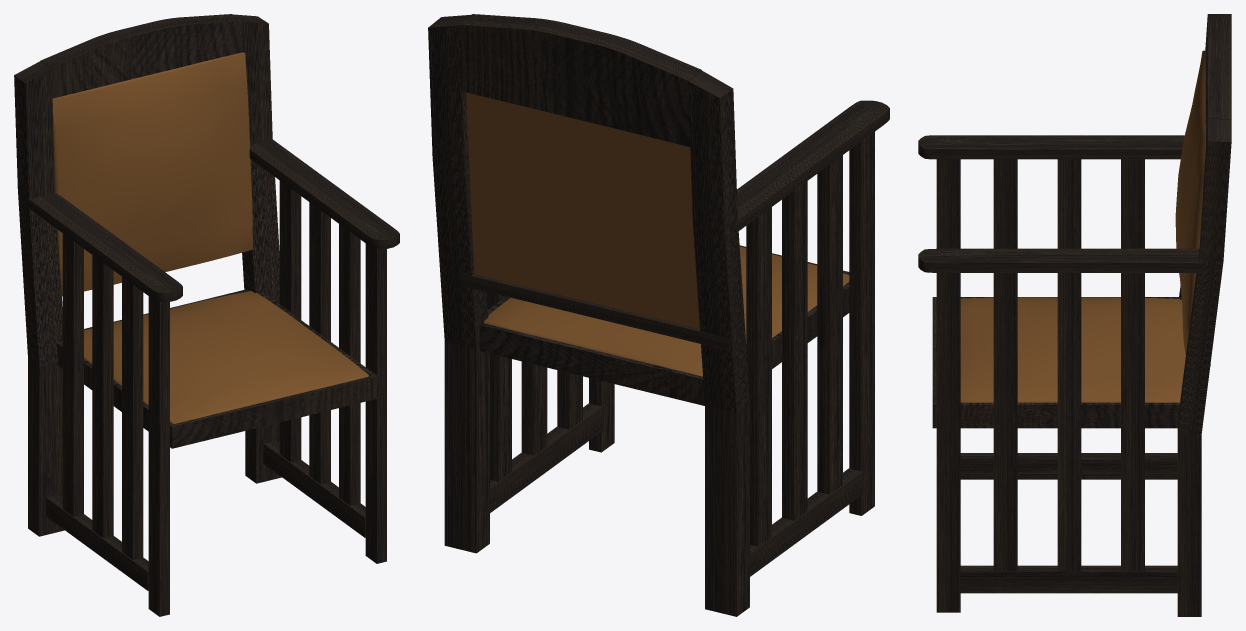
The model's file is kursi ruang tengah.fbx.
The picture shows the model from 3 angles, left to right: view 1: azimuth 30°, elevation 25°; view 2: azimuth 150°, elevation 25°; view 3: azimuth 270°, elevation 25°; orthographic projection. The views are drawn at different scales.
Visible parts, largest first — view 1: Cube.018, Cube.005, Cube.001, Cube.016, Cube, Cube.002, Cube.010, Cube.012, Cube.015, Cube.011, Cube.007, Cube.003 (+4 smaller); view 2: Cube.005, Cube.018, Cube.016, Cube.001, Cube.012, Cube.015, Cube.010, Cube, Cube.011, Cube.017, Cube.004, Cube.014 (+4 smaller); view 3: Cube.001, Cube.005, Cube.002, Cube.003, Cube.006, Cube.008, Cube.007, Cube.011, Cube.004, Cube, Cube.018, Cube.014 (+4 smaller).
Part boxes in pixels (x1,y1,x2,y2): Cube.018: [52, 52, 252, 295]; Cube.005: [14, 14, 281, 536]; Cube.001: [62, 291, 368, 423]; Cube.016: [148, 296, 169, 616]; Cube: [56, 289, 378, 448]; Cube.002: [365, 243, 386, 563]; Cube.010: [62, 233, 83, 516]; Cube.012: [92, 255, 113, 538]; Cube.015: [122, 277, 143, 559]; Cube.011: [27, 193, 182, 301]; Cube.007: [249, 139, 399, 249]; Cube.003: [339, 224, 360, 505]; Cube.005: [428, 14, 749, 616]; Cube.018: [466, 92, 699, 328]; Cube.016: [849, 132, 874, 515]; Cube.001: [484, 246, 849, 376]; Cube.012: [782, 181, 807, 520]; Cube.015: [817, 155, 842, 494]; Cube.010: [746, 207, 771, 546]; Cube: [479, 245, 849, 405]; Cube.011: [736, 100, 889, 232]; Cube.017: [461, 273, 730, 350]; Cube.004: [490, 403, 602, 512]; Cube.014: [750, 468, 863, 576]; Cube.001: [960, 297, 1185, 402]; Cube.005: [1177, 14, 1231, 616]; Cube.002: [936, 273, 960, 612]; Cube.003: [993, 273, 1017, 571]; Cube.006: [1057, 273, 1081, 571]; Cube.008: [1121, 273, 1144, 571]; Cube.007: [918, 248, 1203, 272]; Cube.011: [918, 135, 1184, 159]; Cube.004: [960, 565, 1177, 593]; Cube: [932, 297, 1180, 428]; Cube.018: [1175, 50, 1205, 354]; Cube.014: [960, 453, 1177, 479].
Bounding box in the file's own units: 155 × 281 × 160.
Materials: 2 (1 with a texture image).
